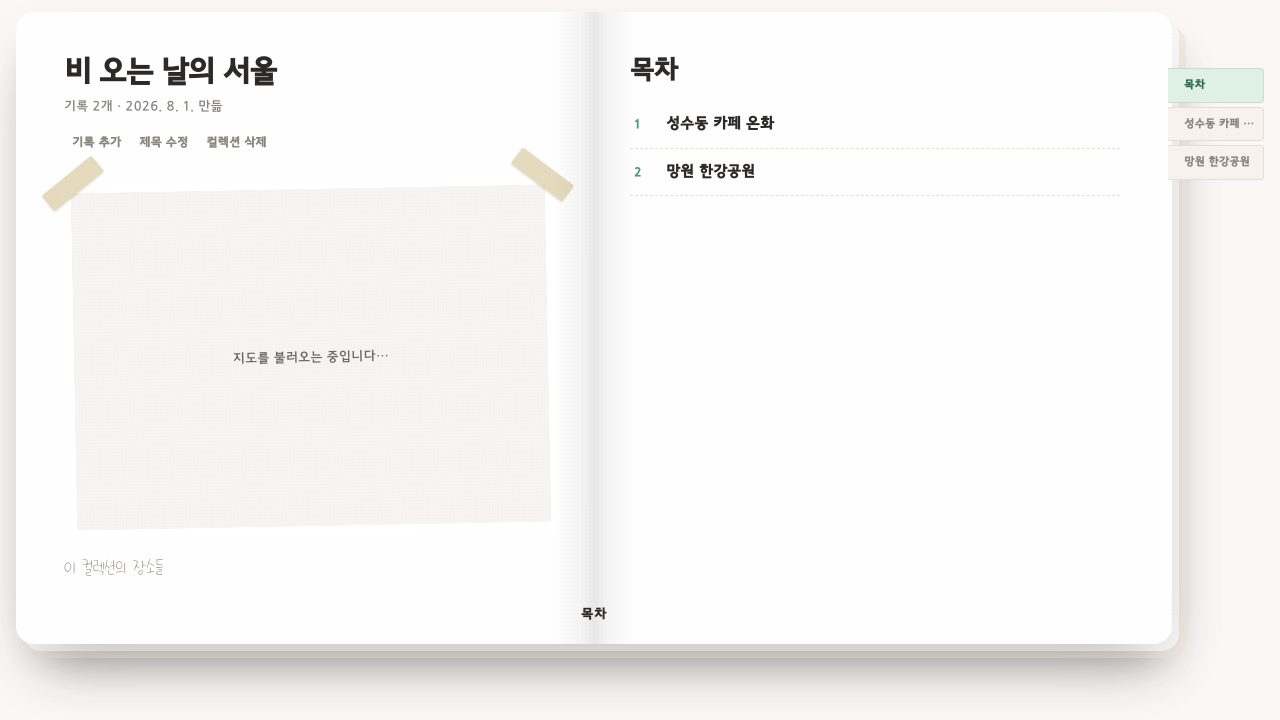
CollectionDetailView — 펼침면 소유자 배치(418) › 맥락은 2열로 포개 앉고, 끝에 점선 추가 자리가 붙는다
Click the button "성수동 카페 온화" at (1216,124), box [1168, 106, 1264, 141]
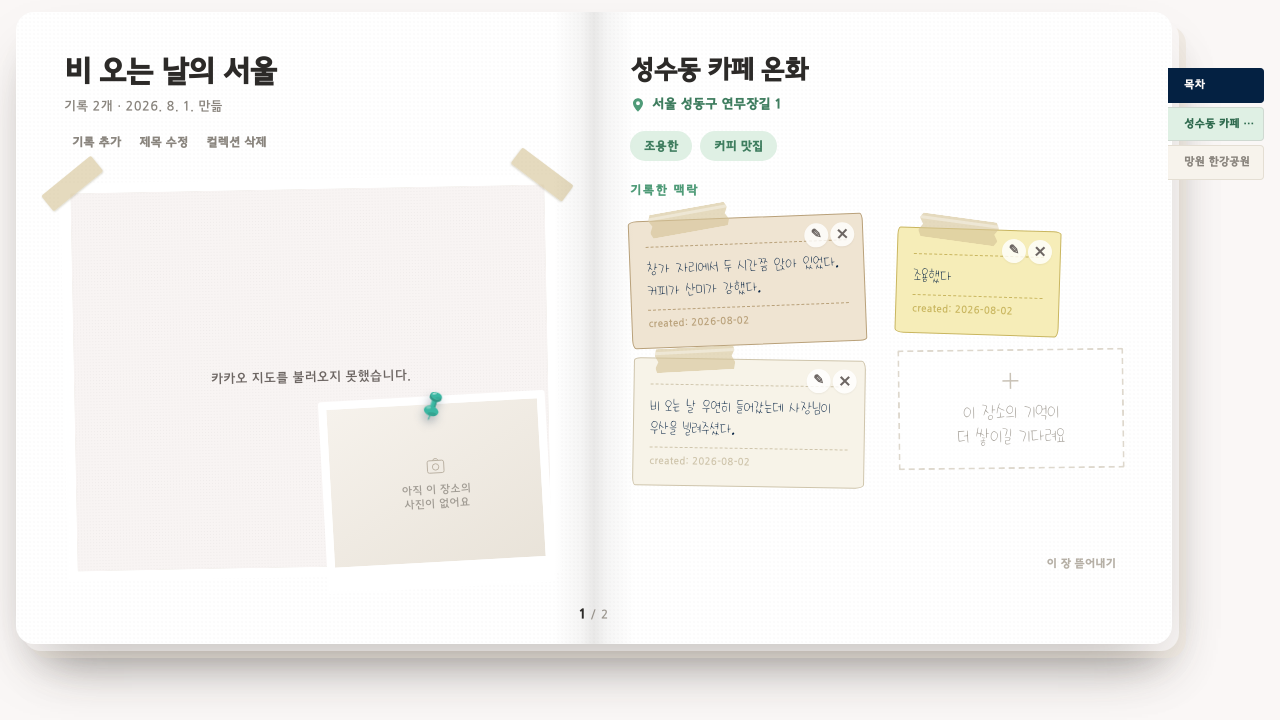
Result: the number of buttons named "맥락 수정" is 3 at [804, 222, 829, 247]; [1002, 238, 1026, 263]; [806, 368, 831, 393]
